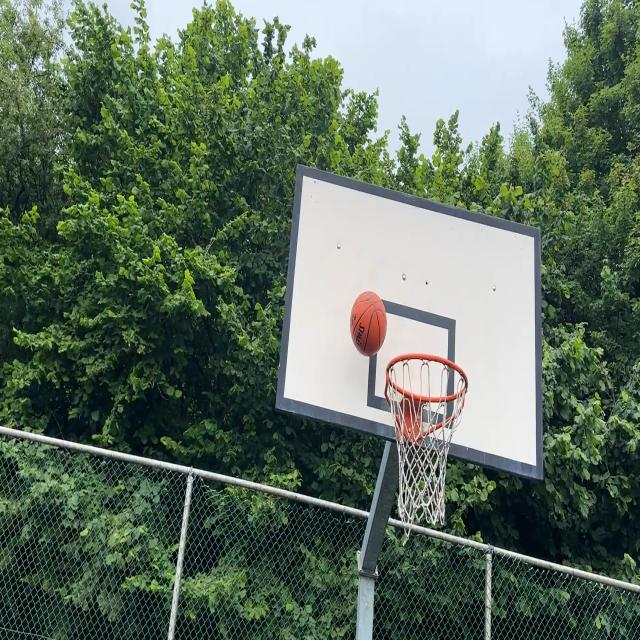Basketball: (349, 291, 386, 355)
